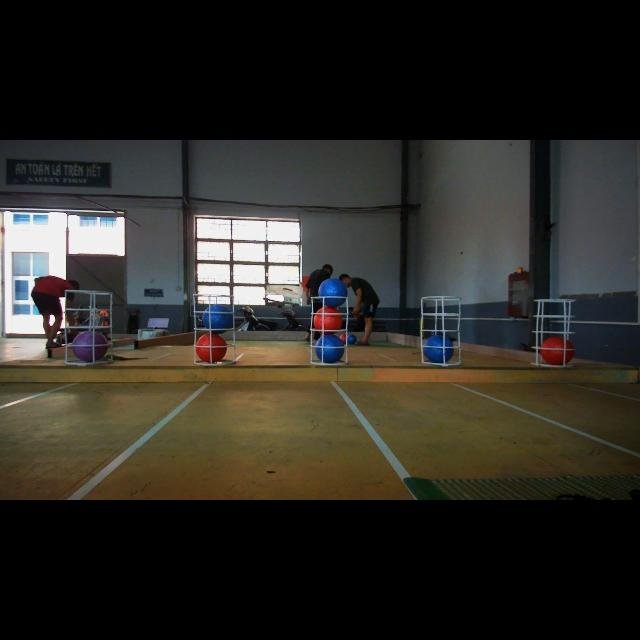B: (200, 304, 234, 334), (317, 278, 349, 308), (314, 334, 344, 364), (424, 332, 452, 362)
R: (314, 305, 351, 335), (542, 334, 574, 366), (195, 334, 227, 364)
